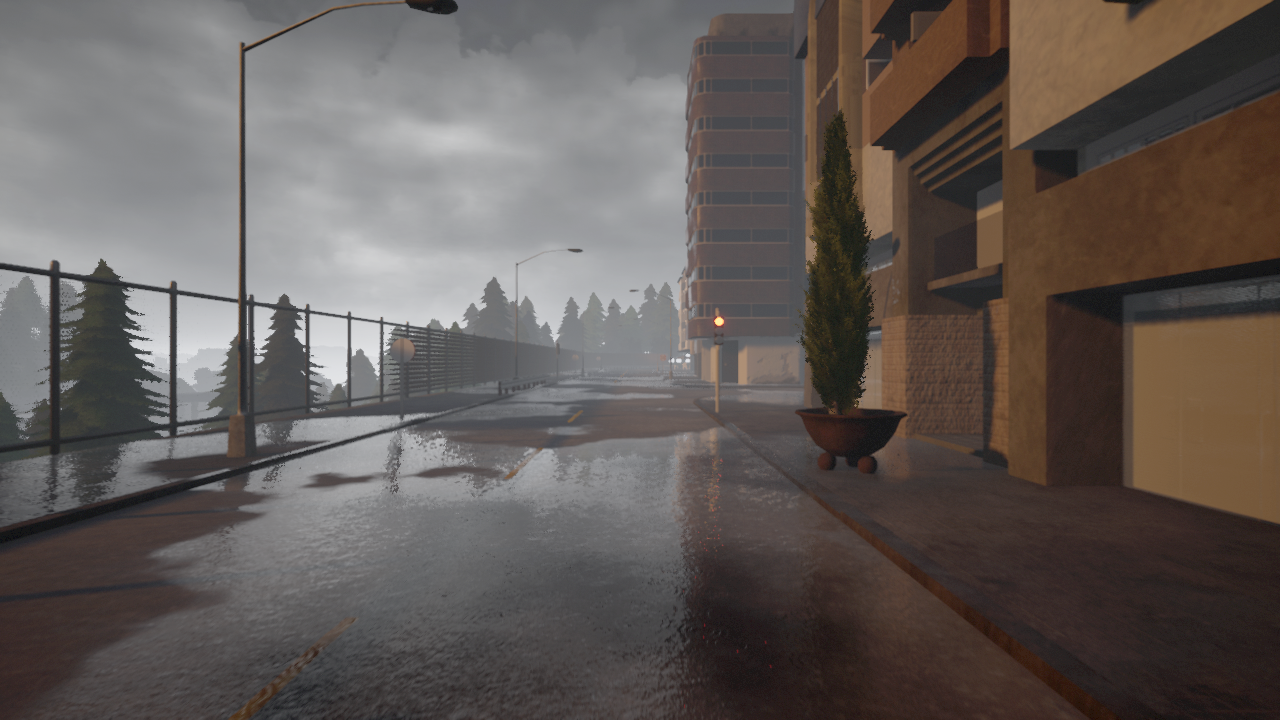red: (713, 314, 725, 346)
